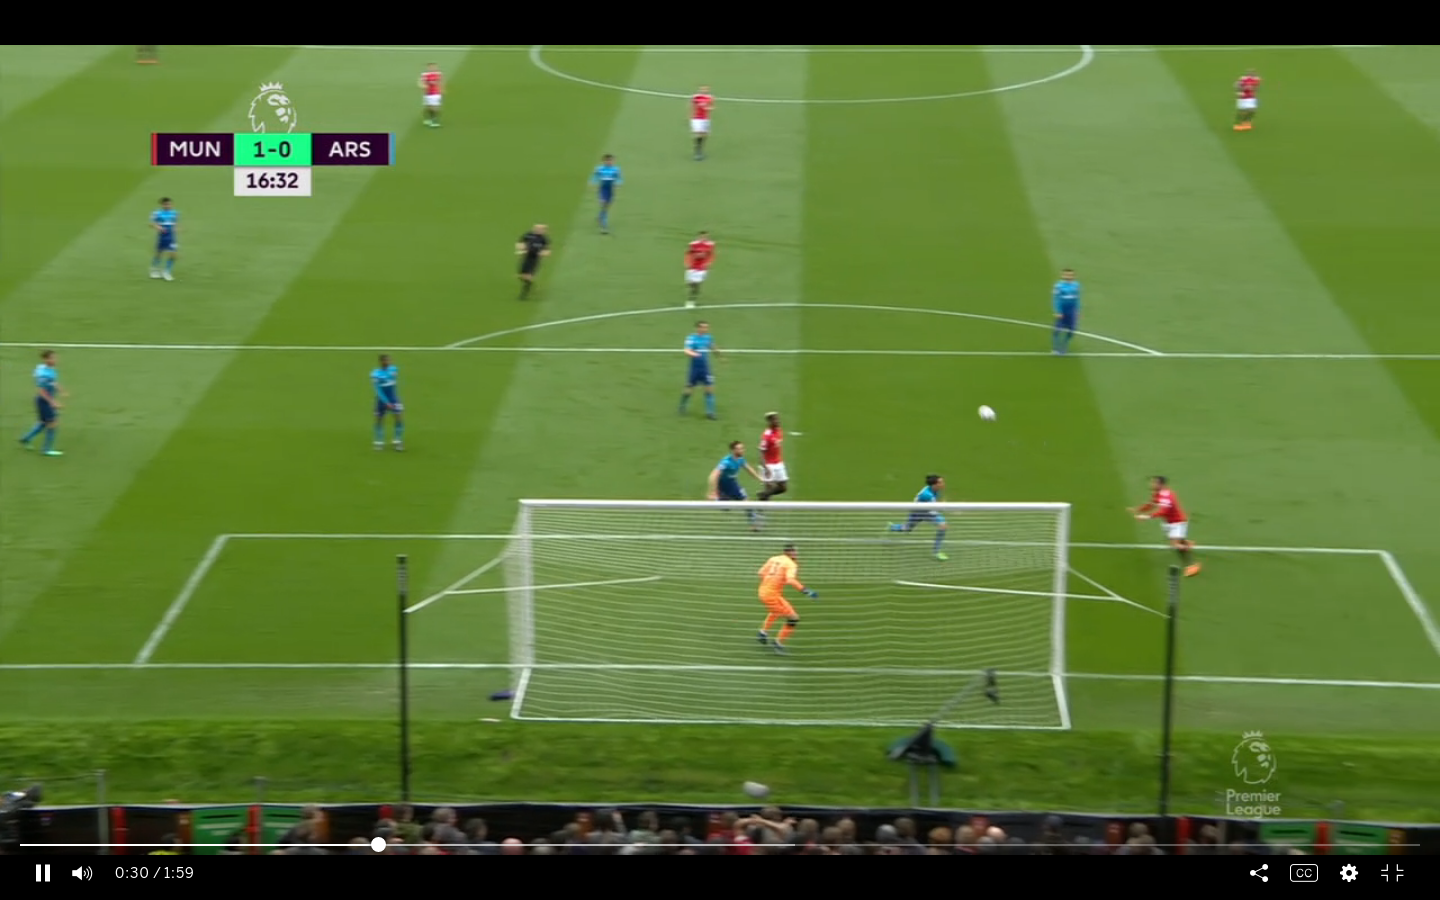referee: (515, 219, 550, 309)
soccer player: (1127, 471, 1201, 583), (750, 542, 818, 657), (668, 314, 733, 434), (16, 345, 62, 472), (745, 409, 798, 514), (702, 439, 756, 542), (885, 476, 952, 560), (1038, 260, 1087, 366), (365, 348, 399, 465), (142, 194, 182, 289), (584, 148, 624, 239), (679, 228, 721, 316), (681, 85, 721, 162), (1228, 63, 1265, 139), (415, 54, 448, 129)
soccerball: (970, 397, 1002, 429)
